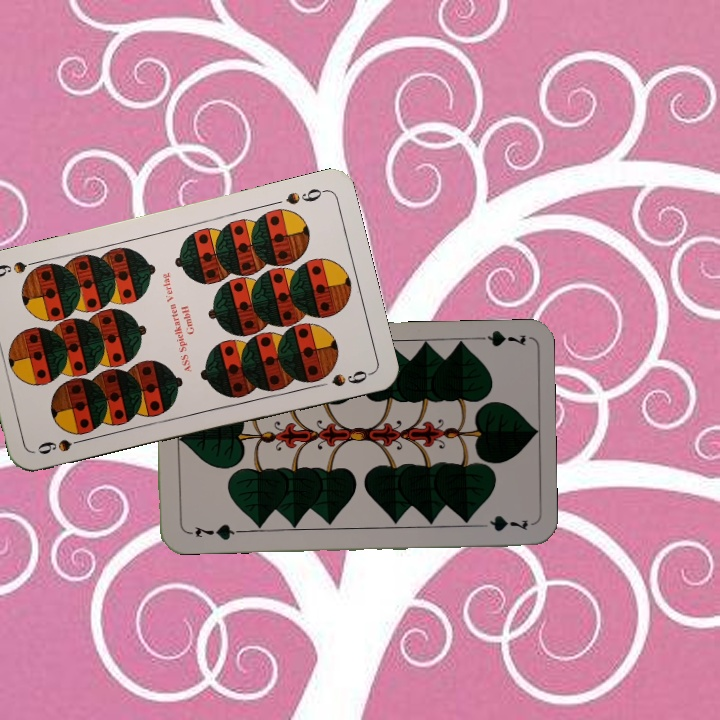G7: (469, 327, 528, 349), (191, 520, 241, 543)
S9: (33, 433, 91, 457), (282, 184, 328, 208)
